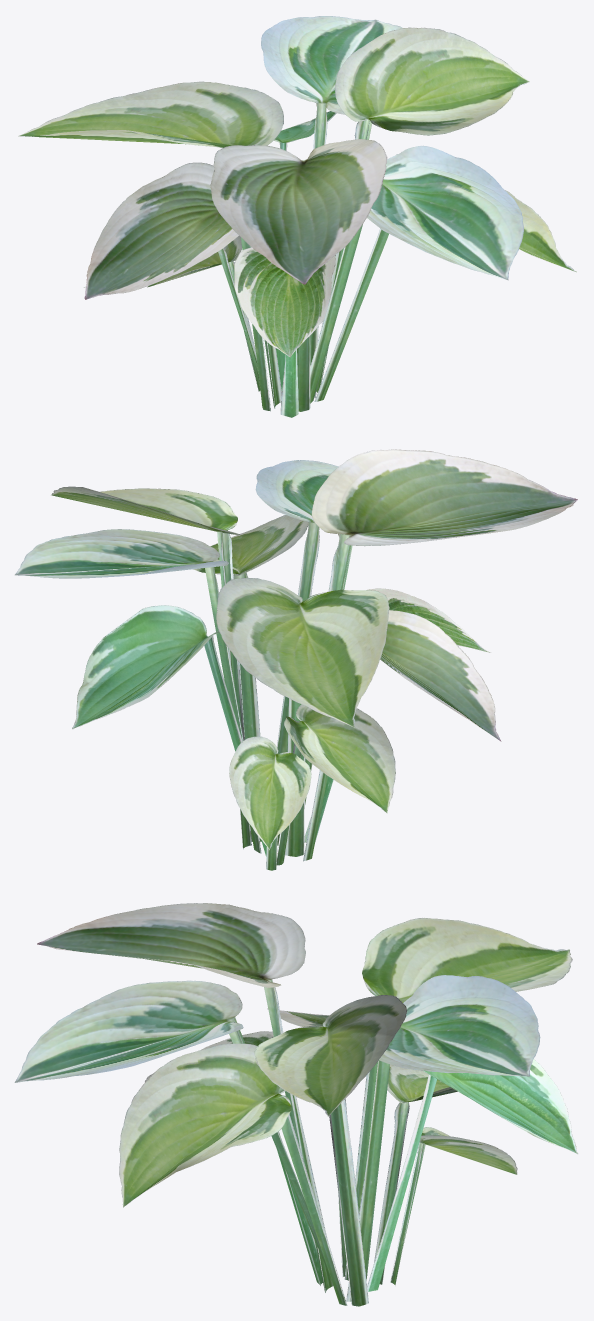
Rendered from plant_small_wg_00N.fbx.
3 views of the same model, one above another, from view 1: azimuth 30°, elevation 25°; view 2: azimuth 150°, elevation 25°; view 3: azimuth 270°, elevation 25° (orthographic). The views are drawn at different scales.
Parts seen in each view (by area): view 1: plant_small_wg_00N; view 2: plant_small_wg_00N; view 3: plant_small_wg_00N.
Part boxes in pixels (box(x1,y1,x2,y2)): plant_small_wg_00N: box(18, 16, 576, 417); plant_small_wg_00N: box(15, 449, 577, 870); plant_small_wg_00N: box(14, 903, 578, 1306).
Size of the model in its own units: 59.45 by 41.99 by 61.84.
Materials: 1 (1 with a texture image).
